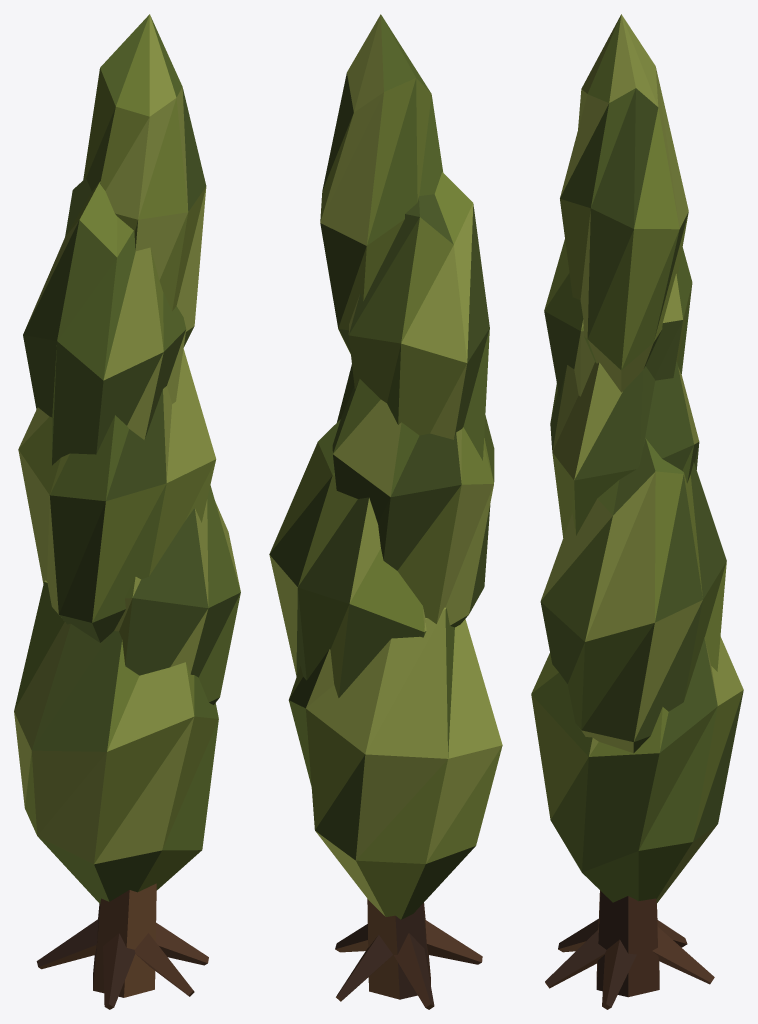
Rendered from tree_cypress_twisted.obj.
3 views of the same model, side by side, from view 1: azimuth 30°, elevation 25°; view 2: azimuth 150°, elevation 25°; view 3: azimuth 270°, elevation 25° (orthographic).
Visible parts, largest first — view 1: tree_cypress_twisted; view 2: tree_cypress_twisted; view 3: tree_cypress_twisted.
Part boxes in pixels (box(x1,y1,x2,y2)): tree_cypress_twisted: box(14, 14, 240, 1009); tree_cypress_twisted: box(269, 14, 502, 1009); tree_cypress_twisted: box(531, 14, 743, 1009).
Size of the model in its own units: 135 by 580 by 114.
Materials: 1 (1 with a texture image).
